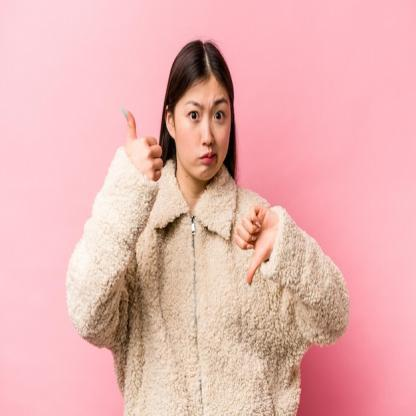thumb_down: (232, 199, 278, 291)
thumb_up: (115, 104, 164, 190)
